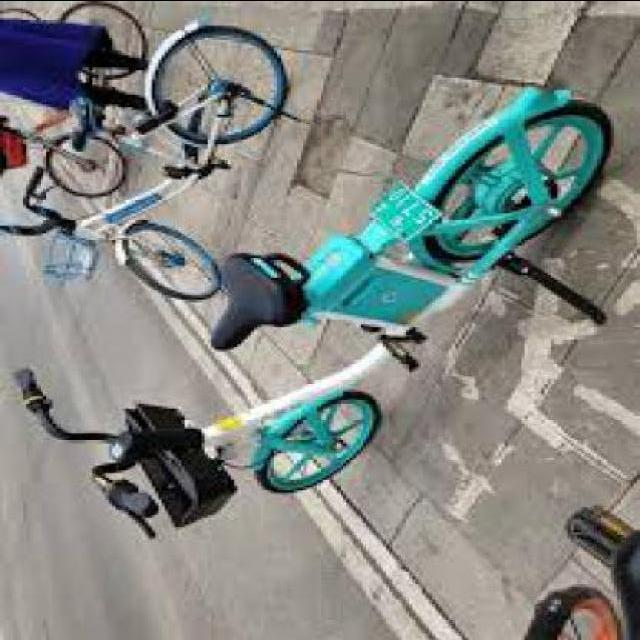bicycle: (37, 72, 635, 569), (1, 24, 338, 302)
